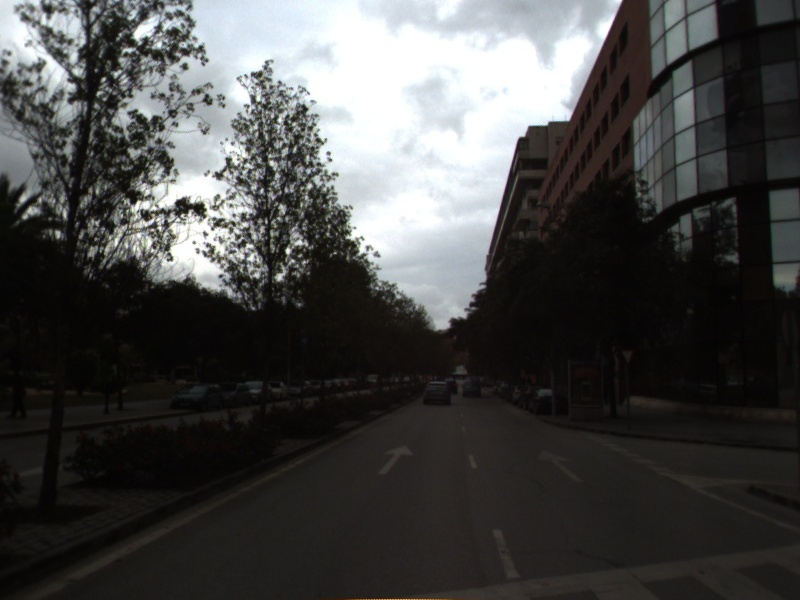STRAIGHT: (535, 447, 587, 484), (376, 443, 417, 476)
